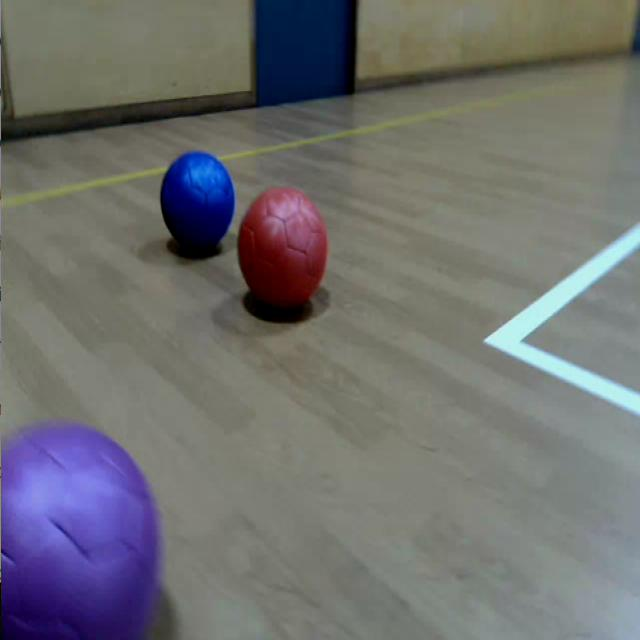blue_ball: (156, 149, 234, 255)
purple_ball: (0, 418, 167, 640)
red_ball: (237, 184, 329, 316)
